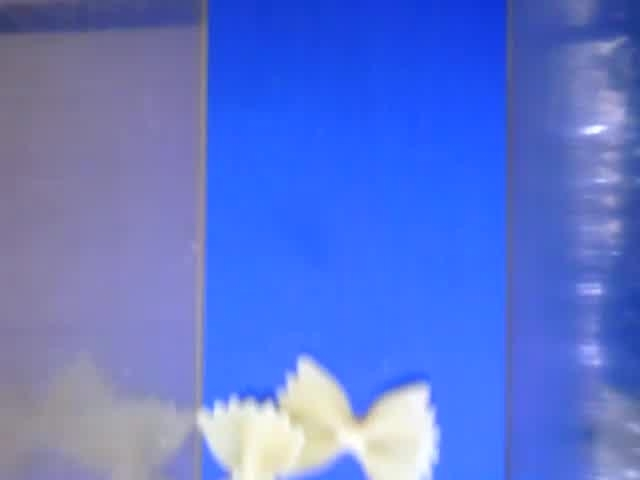farfalle: (273, 350, 440, 480), (195, 394, 307, 480)
